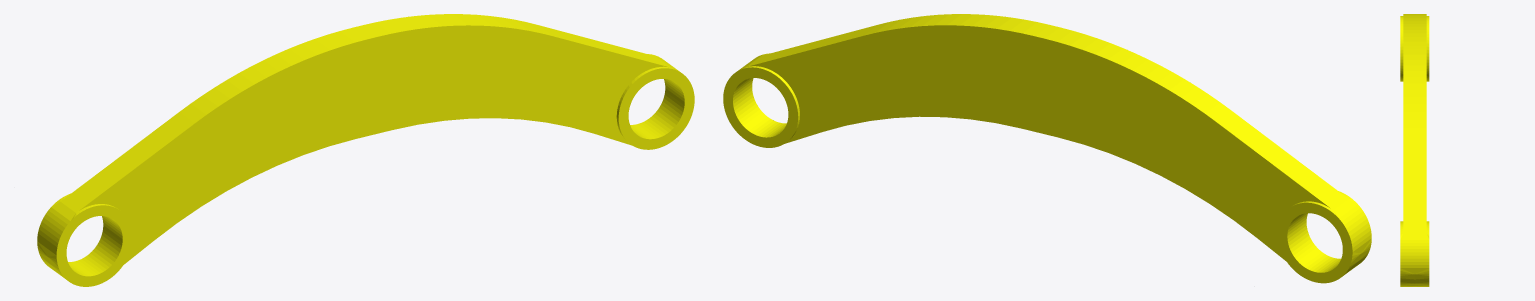
The picture shows the model from 3 angles, left to right: view 1: azimuth 30°, elevation 25°; view 2: azimuth 150°, elevation 25°; view 3: azimuth 270°, elevation 25°; orthographic projection. The views are drawn at different scales.
Parts seen in each view (by area): view 1: node; view 2: node; view 3: node.
Boxes of the visible parts, box(x1,y1,x2,y2) form: node: box(37, 14, 694, 286); node: box(723, 14, 1371, 283); node: box(1400, 14, 1429, 286).
Bounding box in the file's own units: 1930 × 515 × 421.
